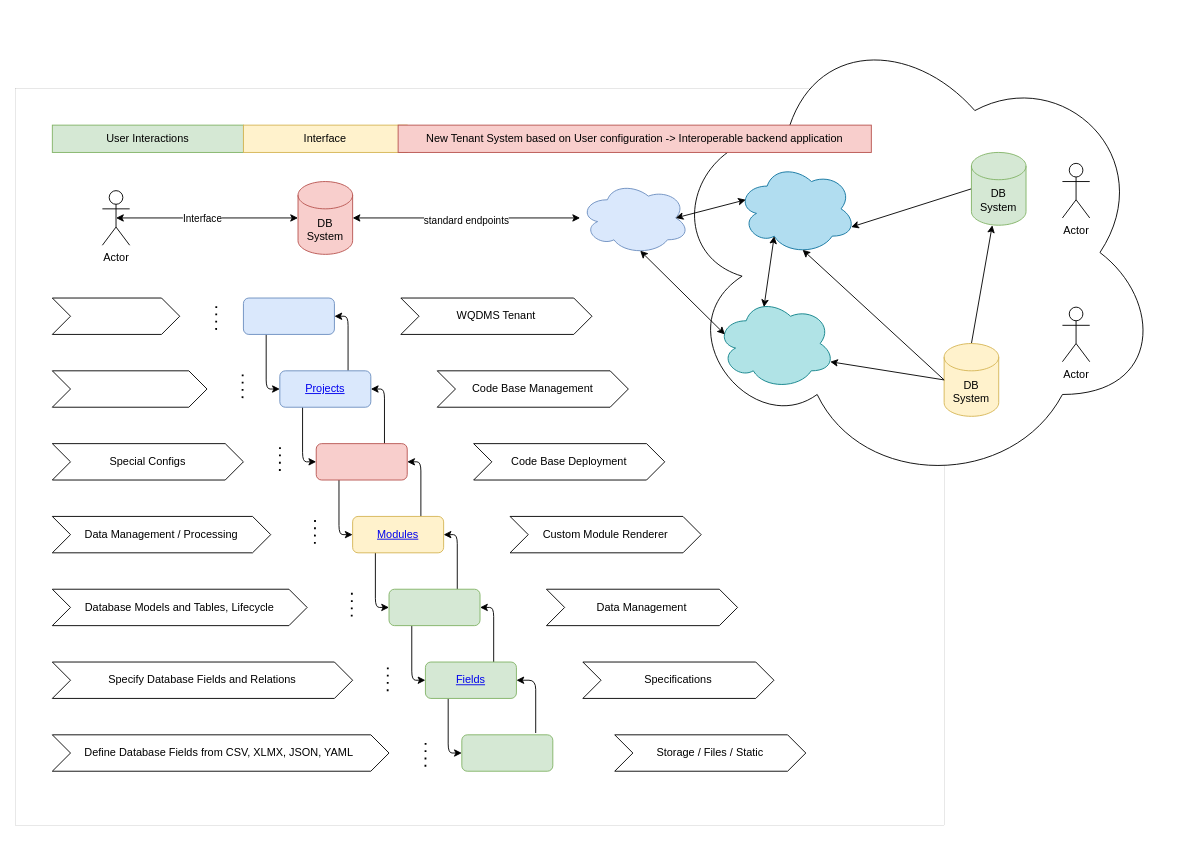
The diagram is 1178 pixels wide and 842 high, and some of its shapes have lost their labels. Here are the shapes that lost their labels. From the top down, the centre of each, then its label:
At point 634,217: "Custom Service A Backend".
At point 796,208: "Custom Service C Backend".
At point 115,315: "Onboarding".
At point 288,315: "Organizations".
At point 775,343: "Custom Service B Backend".
At point 129,388: "General Configs".
At point 361,461: "Applications".
At point 434,607: "Tables".
At point 507,752: "Appendix".
